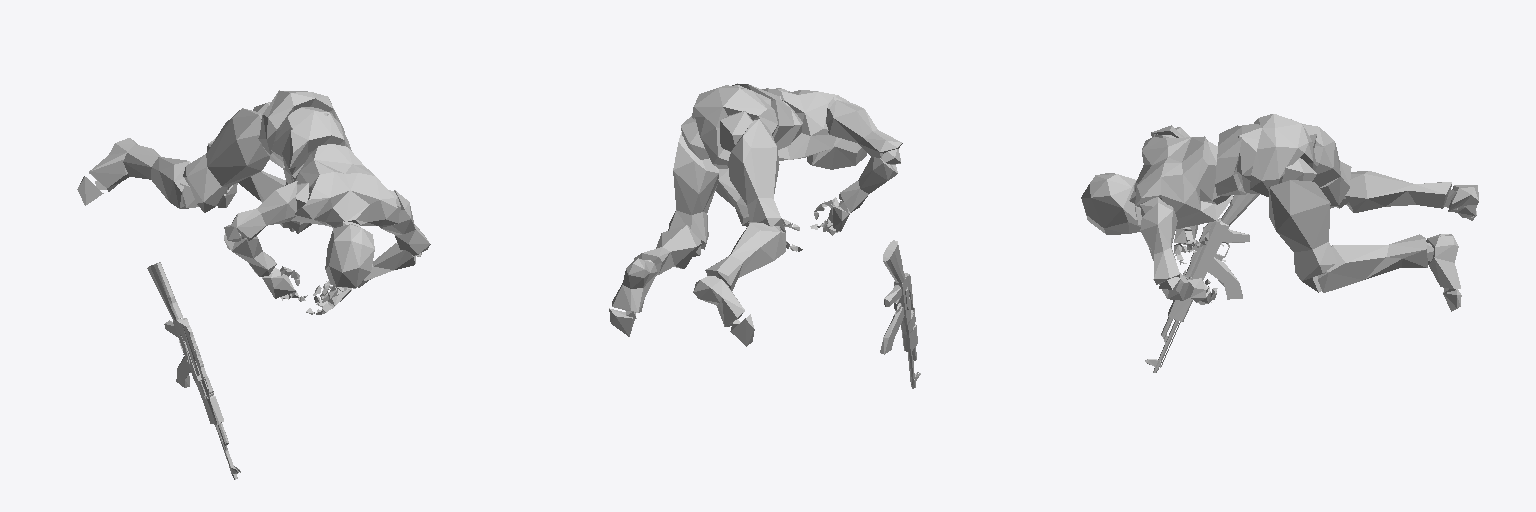
The model's file is EnemyDying_000045.obj.
The picture shows the model from 3 angles: view 1: azimuth 30°, elevation 25°; view 2: azimuth 150°, elevation 25°; view 3: azimuth 270°, elevation 25°; orthographic projection.
Visible parts, largest first — view 1: Alpha_Surface, AK-47_Cube, Alpha_Joints; view 2: Alpha_Surface, Alpha_Joints, AK-47_Cube; view 3: Alpha_Surface, AK-47_Cube, Alpha_Joints.
Boxes of the visible parts, <box> form: Alpha_Surface: <box>77,90,430,314</box>; AK-47_Cube: <box>147,262,240,479</box>; Alpha_Joints: <box>95,102,421,313</box>; Alpha_Surface: <box>609,84,902,346</box>; Alpha_Joints: <box>625,83,900,330</box>; AK-47_Cube: <box>880,240,920,388</box>; Alpha_Surface: <box>1081,114,1478,311</box>; AK-47_Cube: <box>1145,193,1259,372</box>; Alpha_Joints: <box>1129,119,1473,302</box>.
Bounding box in the file's own units: 194 × 252 × 288.